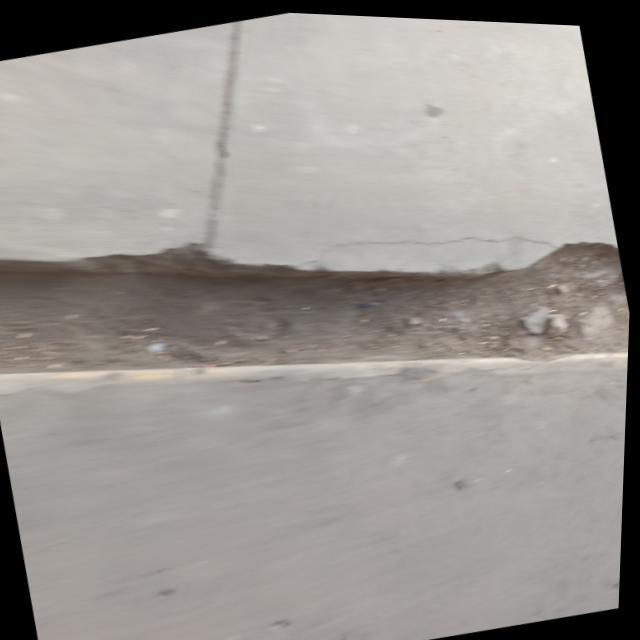hole: (6, 218, 615, 394)
